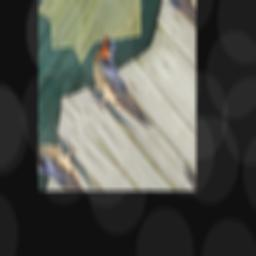Swallow: (72, 29, 167, 154)
